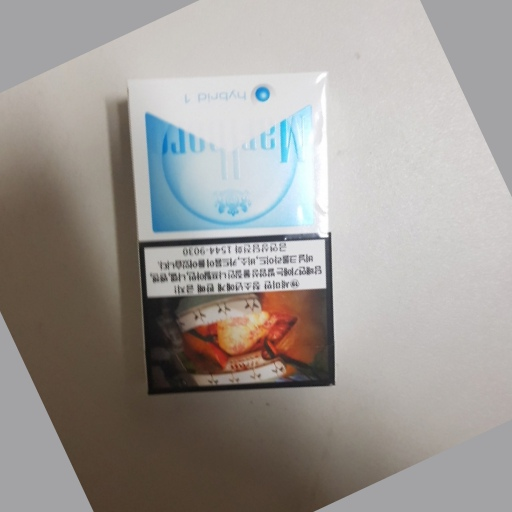Paper_0: (111, 69, 354, 403)
